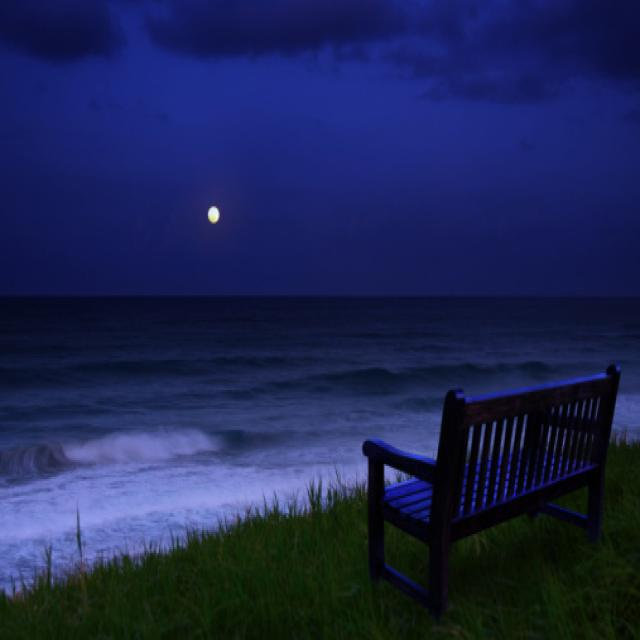chair: (334, 362, 639, 618)
